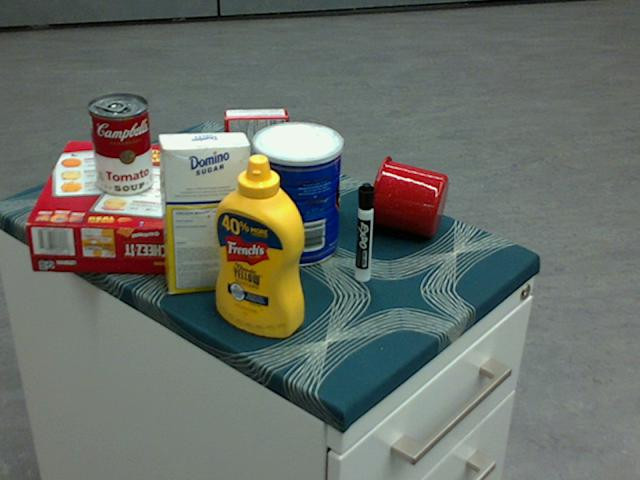cracker_box: (25, 141, 193, 275)
gelatin_box: (223, 108, 288, 164)
large_marker: (356, 182, 374, 281)
master_chef_can: (251, 121, 341, 266)
mug: (366, 154, 448, 236)
mustard_bottle: (215, 154, 305, 338)
potted_meat_can: (258, 132, 340, 213)
sugar_box: (157, 130, 250, 293)
tomato_soup_can: (87, 93, 153, 196)
tuna_fish_can: (184, 149, 226, 219)
